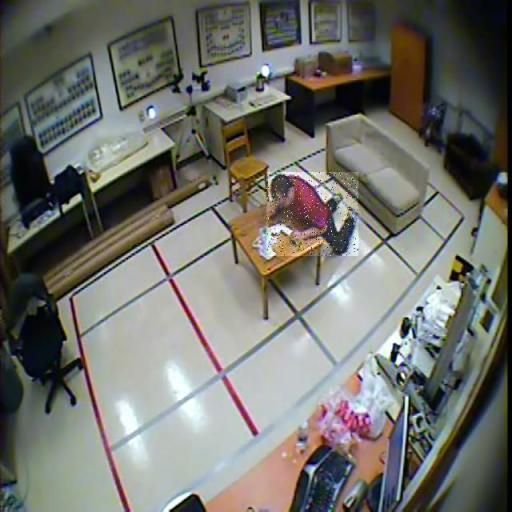Fall: (267, 172, 359, 256)
